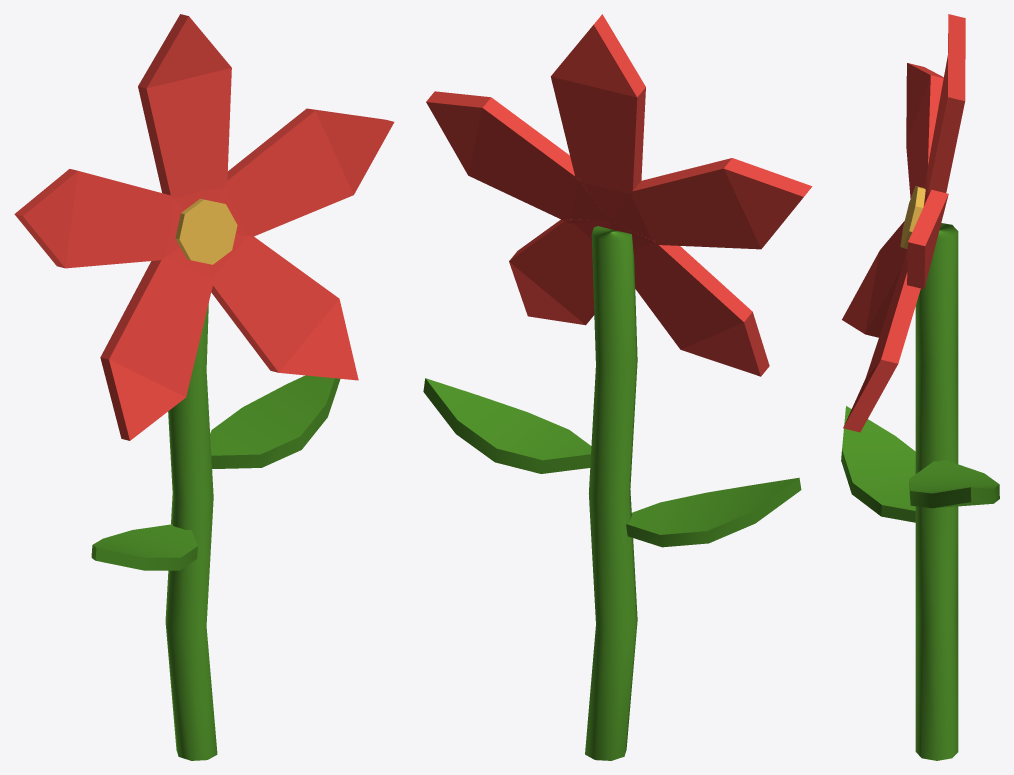
The model's file is Flower_Red_3.fbx.
The picture shows the model from 3 angles, left to right: view 1: azimuth 30°, elevation 25°; view 2: azimuth 150°, elevation 25°; view 3: azimuth 270°, elevation 25°; orthographic projection.
Parts seen in each view (by area): view 1: Cube.085, Cylinder.249, Plane, Plane.082, Cylinder.248; view 2: Cube.085, Cylinder.249, Plane, Plane.082; view 3: Cylinder.249, Cube.085, Plane.082, Plane, Cylinder.248.
Boxes of the visible parts, x1,y1,x2,y2 form: Cube.085: [14, 14, 394, 440]; Cylinder.249: [165, 304, 217, 760]; Plane: [210, 375, 340, 468]; Plane.082: [91, 524, 197, 570]; Cylinder.248: [175, 198, 237, 264]; Cube.085: [426, 14, 812, 376]; Cylinder.249: [585, 226, 637, 760]; Plane: [423, 378, 591, 473]; Plane.082: [626, 477, 801, 547]; Cylinder.249: [915, 223, 958, 760]; Cube.085: [842, 14, 965, 432]; Plane.082: [841, 406, 915, 522]; Plane: [909, 460, 999, 508]; Cylinder.248: [900, 186, 925, 248].
Bounding box in the file's own units: 71.56 × 135 × 26.3.
